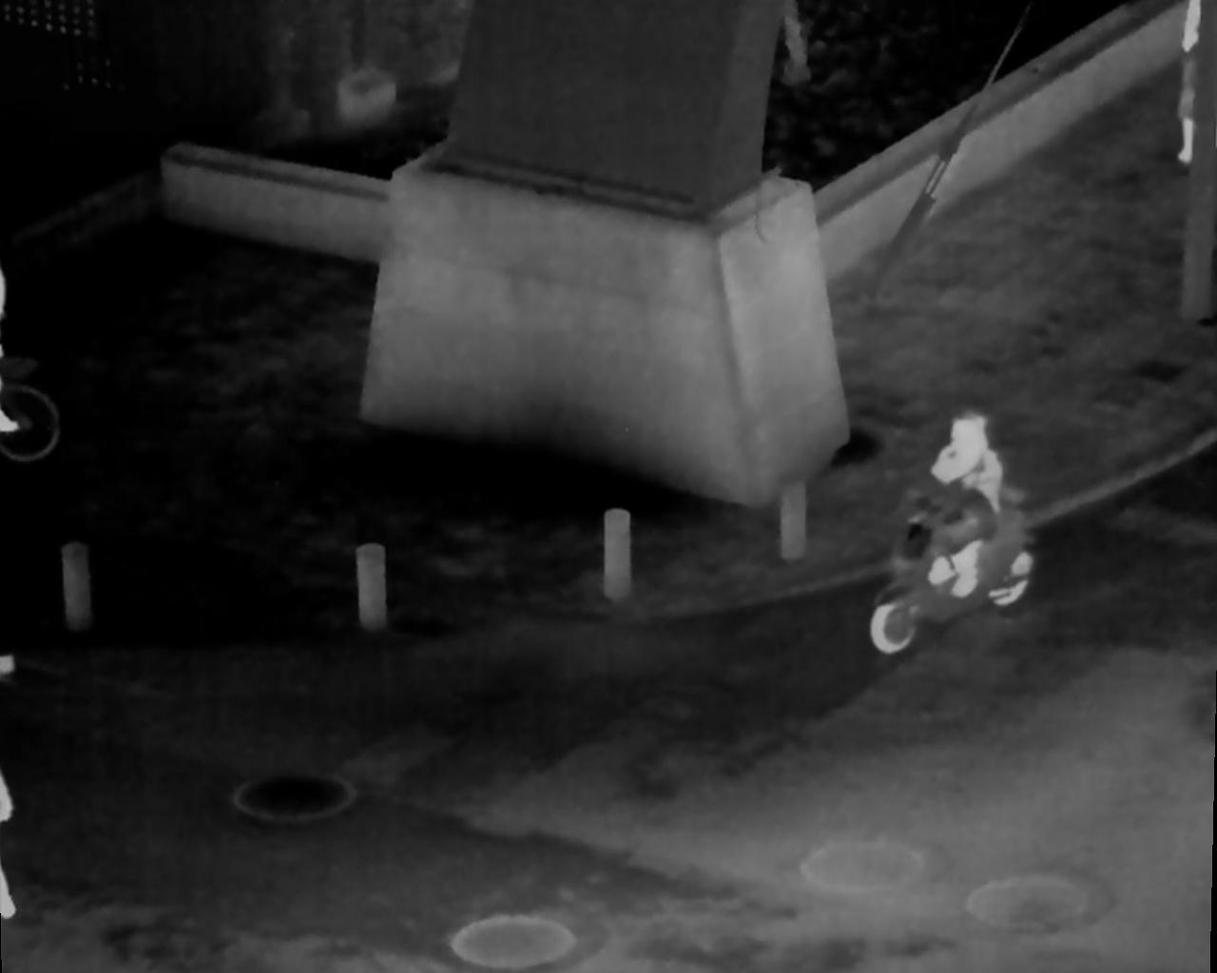person: (899, 411, 995, 658)
